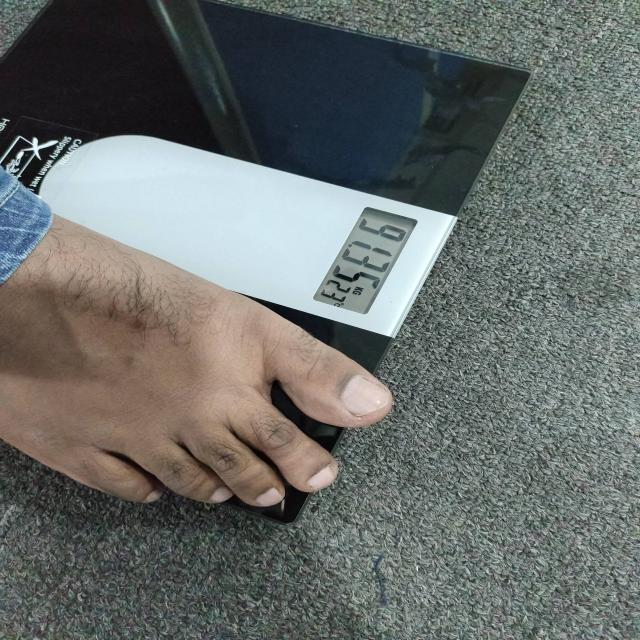ws: (0, 0, 529, 374)
